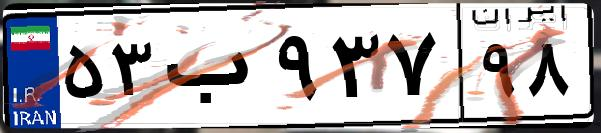3: (330, 28, 385, 110), (110, 28, 158, 98)
5: (57, 26, 110, 100)
7: (385, 28, 445, 110)
8: (525, 38, 570, 115)
9: (270, 28, 330, 110), (475, 38, 525, 113)
ب: (158, 20, 270, 120)
